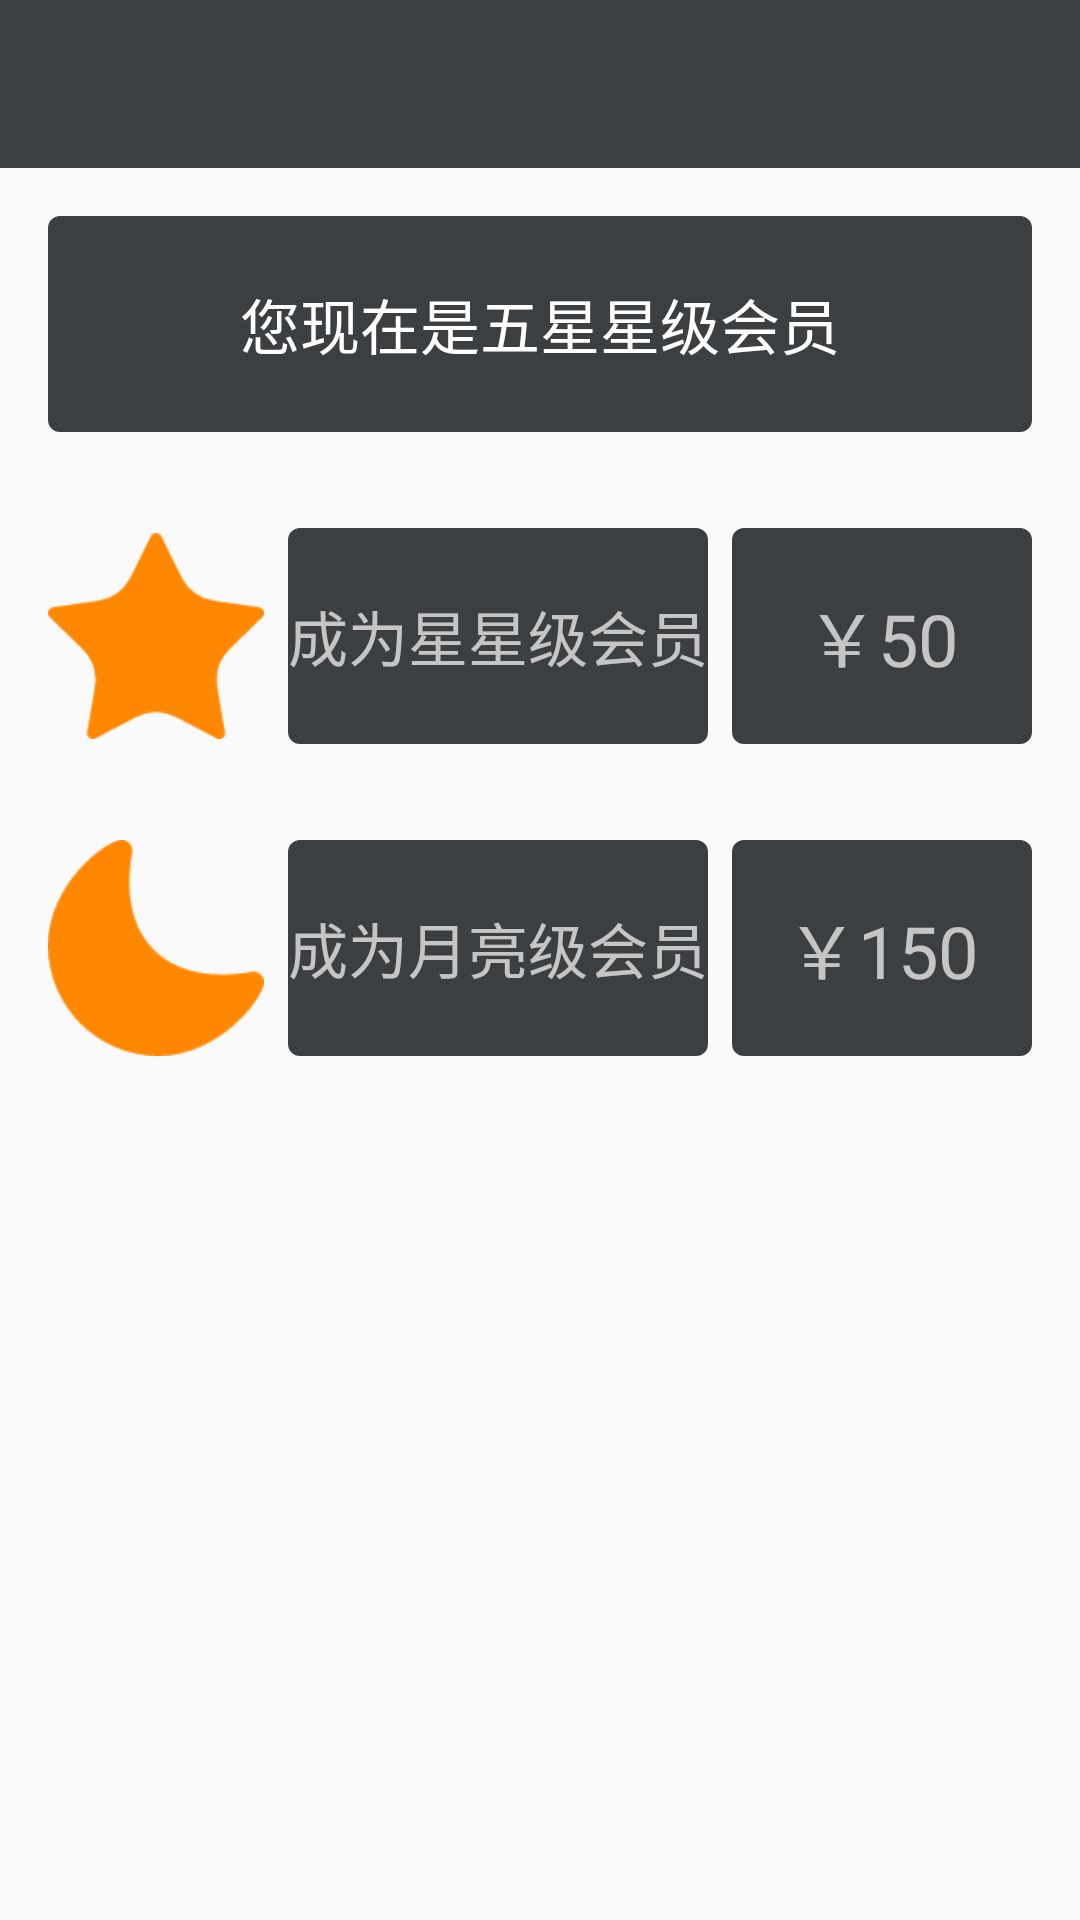

Where icons sit on this 1080px×1920px app screen, as (x1, y1, x2, y2):
moon: (48, 840, 264, 1056)
star: (48, 533, 264, 739)
